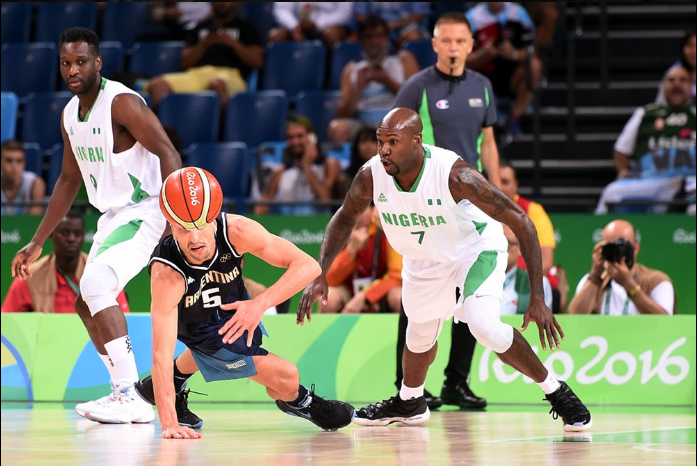ball: (160, 167, 224, 226)
player: (314, 106, 599, 432), (14, 29, 172, 424), (138, 197, 337, 435), (406, 18, 506, 189)
